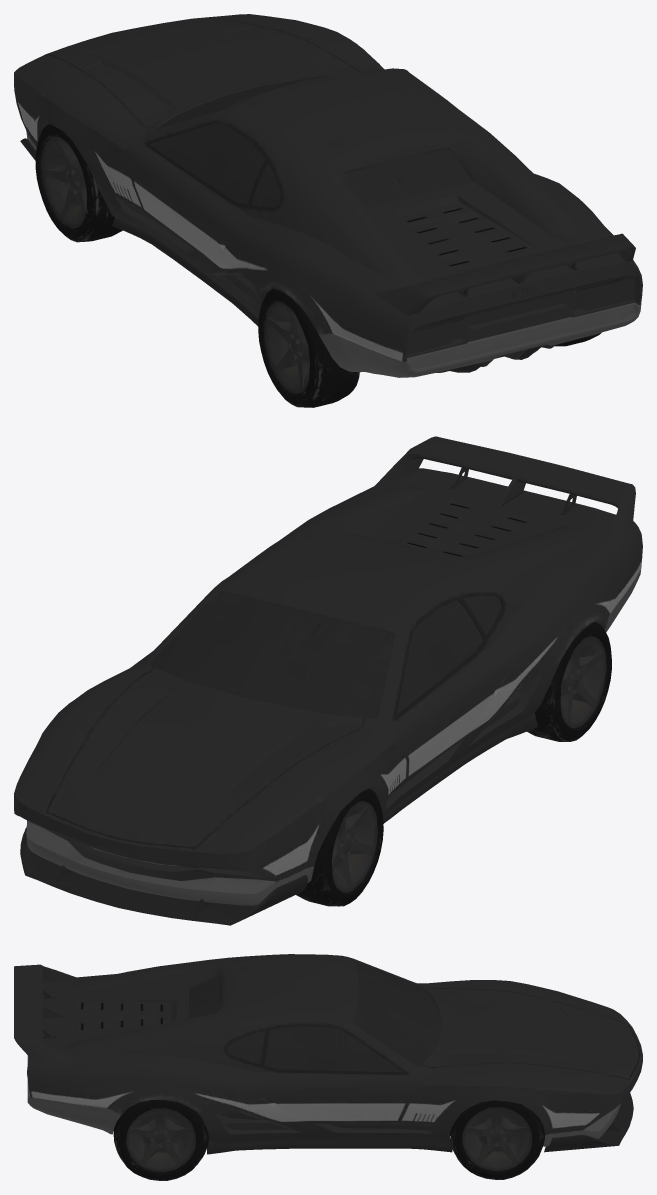
The model's file is cyberpunk_car-transformed.glb.
The picture shows the model from 3 angles, top to bottom: view 1: azimuth 30°, elevation 25°; view 2: azimuth 150°, elevation 25°; view 3: azimuth 270°, elevation 25°; orthographic projection. The views are drawn at different scales.
Visible parts, largest first — view 1: cb_car_export_cb_car_0; view 2: cb_car_export_cb_car_0; view 3: cb_car_export_cb_car_0.
Boxes of the visible parts, left/top/right/bottom form: cb_car_export_cb_car_0: left=14, top=14, right=642, bottom=407; cb_car_export_cb_car_0: left=14, top=436, right=642, bottom=925; cb_car_export_cb_car_0: left=14, top=954, right=642, bottom=1180.
Bounding box in the file's own units: 222 × 141 × 541.
Materials: 1 (1 with a texture image).
